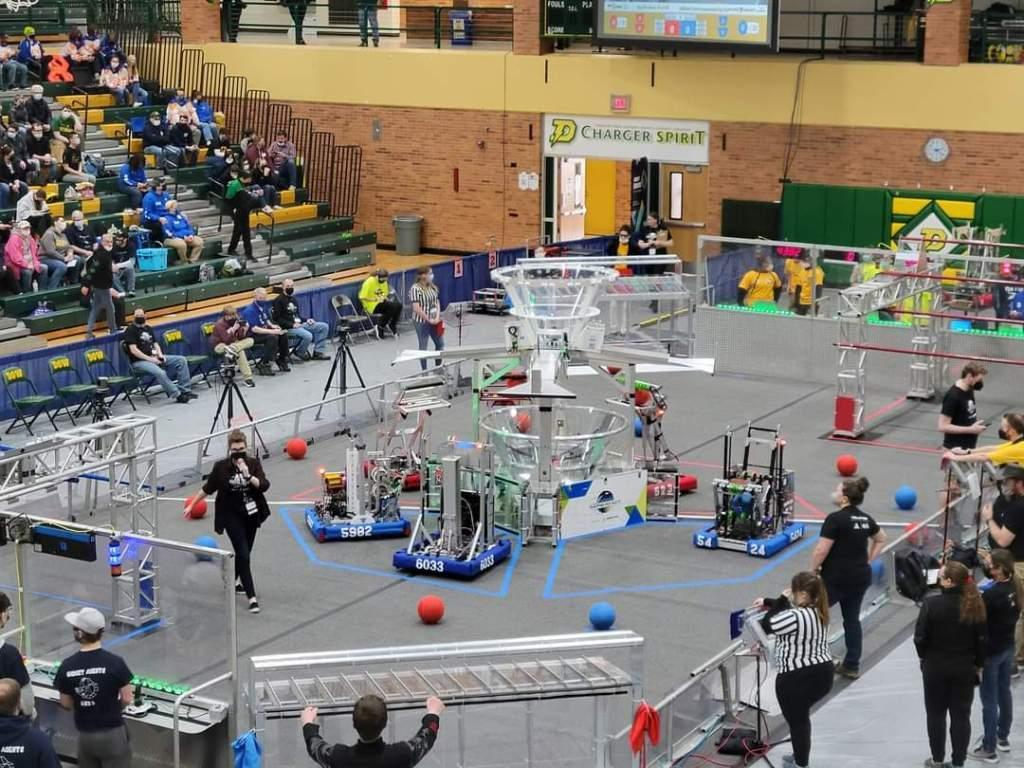robot: (392, 431, 517, 591), (689, 418, 810, 561), (306, 407, 408, 548), (372, 364, 456, 494), (603, 378, 690, 501)
